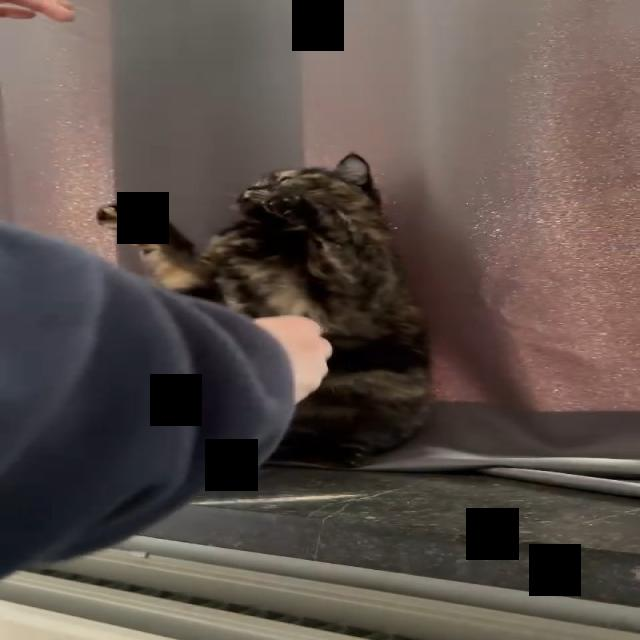authorized: (94, 151, 434, 469)
